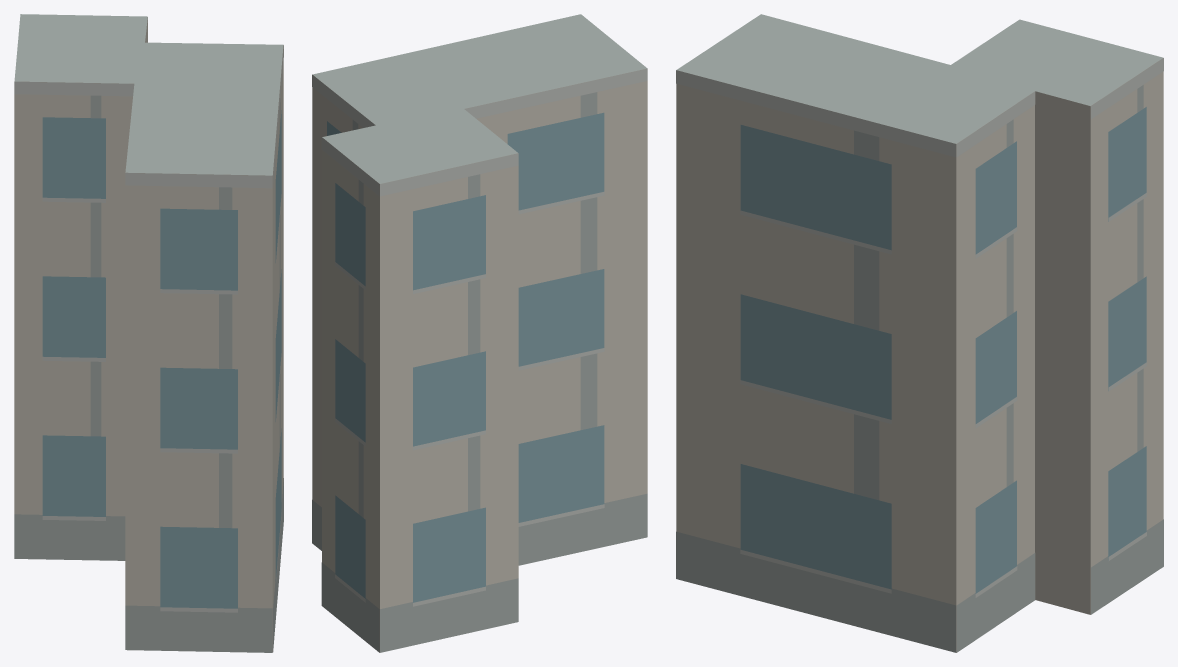
Rendered from survey-upis-32821687.glb.
The picture shows the model from 3 angles, left to right: view 1: azimuth 30°, elevation 25°; view 2: azimuth 150°, elevation 25°; view 3: azimuth 270°, elevation 25°; orthographic projection. The views are drawn at different scales.
Parts seen in each view (by area): view 1: survey-upis-32821687.tmp; view 2: survey-upis-32821687.tmp; view 3: survey-upis-32821687.tmp.
Part boxes in pixels (<box>): survey-upis-32821687.tmp: <box>14,14,283,652</box>; survey-upis-32821687.tmp: <box>312,14,647,652</box>; survey-upis-32821687.tmp: <box>676,14,1163,652</box>.
Bounding box in the file's own units: 5.02 × 9.15 × 7.95.
